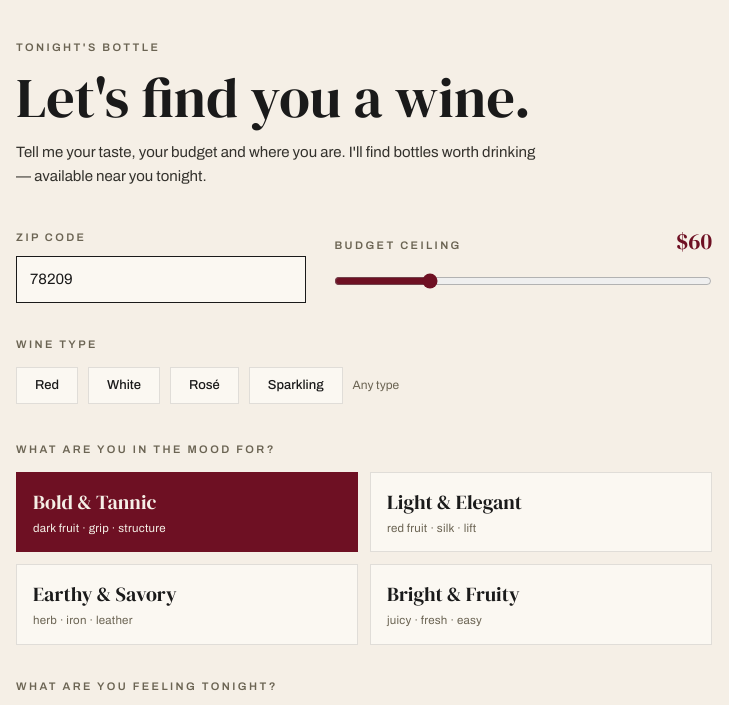
disables Find wines when no style is selected
Click the text "Bold & Tannic" at (95, 502), box left=33, top=488, right=156, bottom=516
(page scrolled)
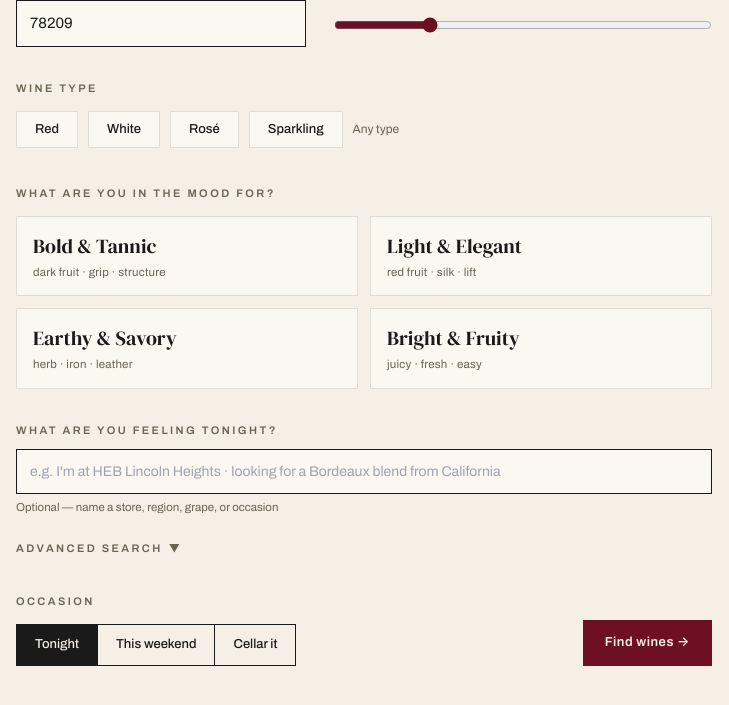
Result: the button "Find wines →" is disabled at left=583, top=620, right=712, bottom=666
